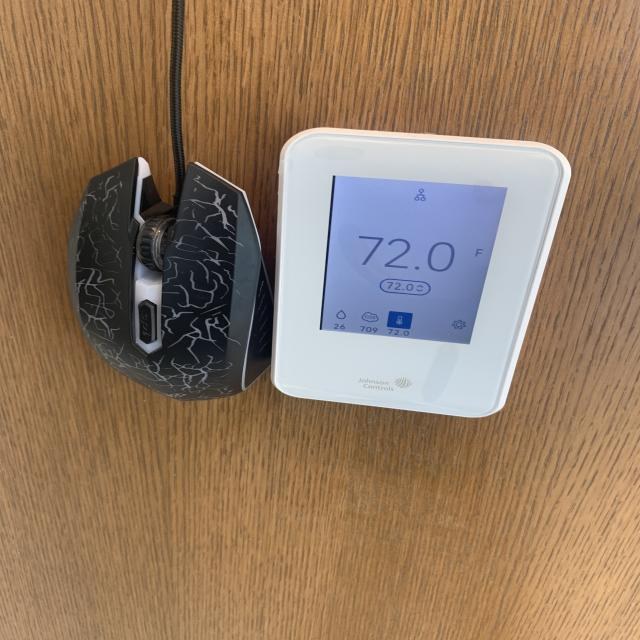Mouse: (59, 152, 274, 408)
